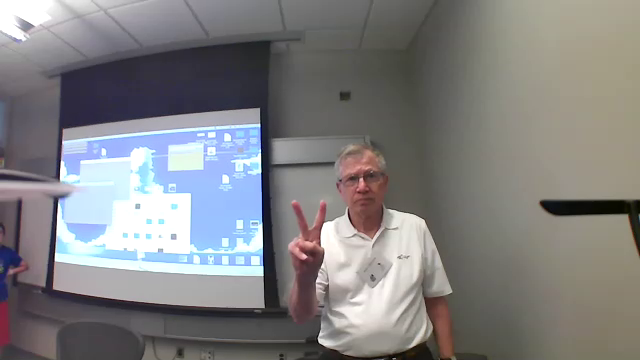peace: (281, 191, 330, 275)
